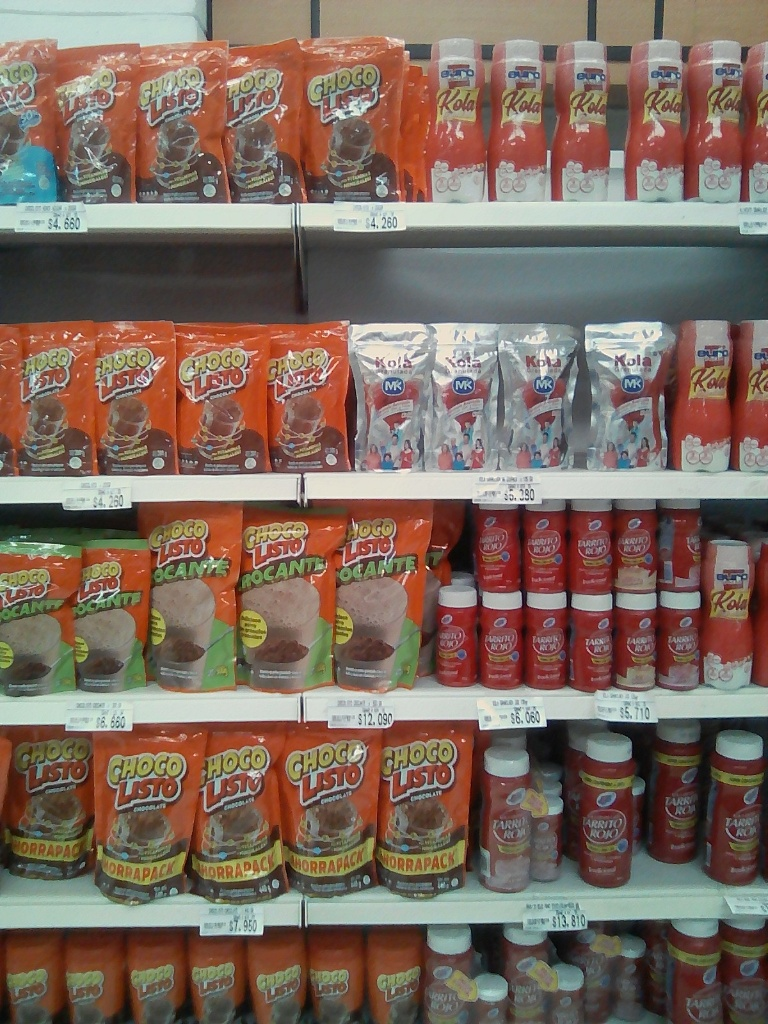COL0170102DYP50000: (135, 504, 243, 692)
COL0170103DYP44000: (7, 726, 95, 895)
COL0170103TRR30000: (250, 940, 307, 1022)
COL0170104DYP20000: (1, 41, 56, 197)
